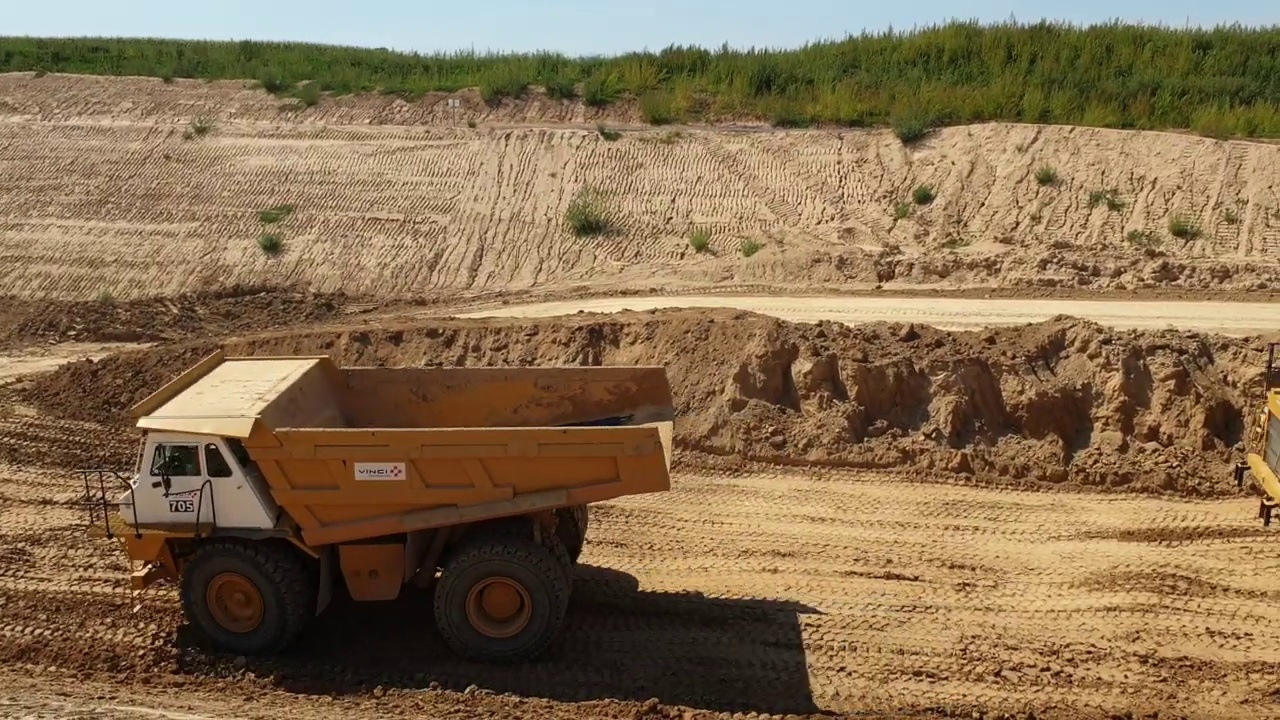truck: (74, 352, 684, 667)
